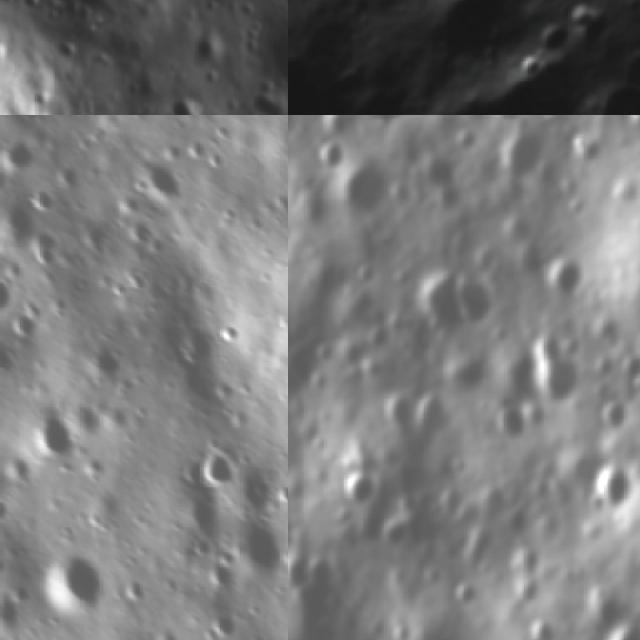crater: (409, 0, 523, 81), (39, 541, 112, 614), (227, 506, 288, 575), (22, 400, 83, 461), (537, 350, 588, 412), (130, 149, 194, 197), (459, 269, 505, 334), (589, 460, 638, 520), (504, 43, 554, 91), (530, 17, 580, 65), (415, 387, 457, 444), (541, 257, 587, 303), (197, 441, 240, 489), (335, 469, 380, 514), (178, 489, 222, 534), (259, 24, 288, 92), (380, 390, 420, 435), (0, 132, 40, 174), (315, 136, 352, 178), (33, 179, 72, 218), (494, 402, 530, 444), (596, 396, 636, 433), (79, 210, 114, 248), (28, 227, 68, 260), (500, 216, 538, 250), (120, 213, 159, 244), (159, 92, 210, 115), (288, 549, 315, 592), (0, 586, 24, 634), (450, 576, 480, 613), (0, 269, 23, 316), (350, 260, 382, 292), (529, 610, 563, 640), (348, 115, 422, 128), (57, 155, 88, 186), (452, 126, 484, 154), (599, 619, 640, 640), (220, 315, 248, 342), (492, 115, 534, 131), (0, 489, 11, 530)
